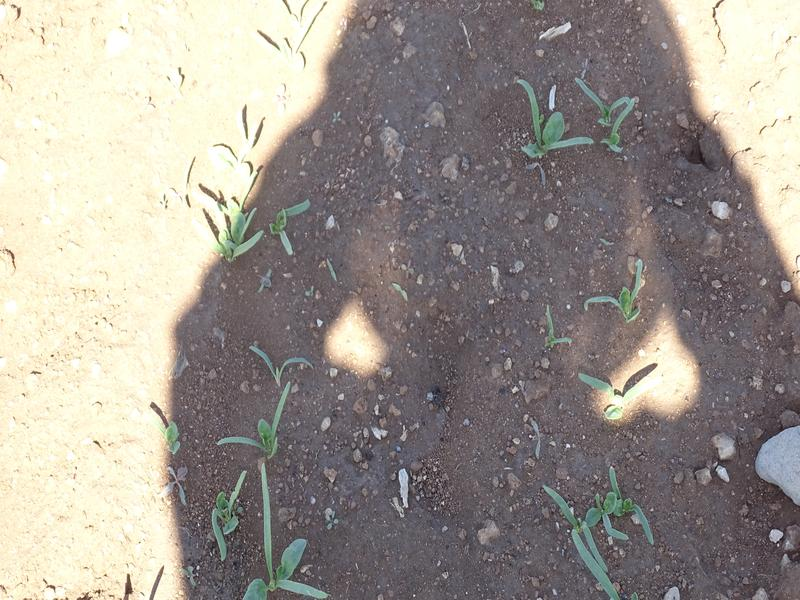Espinaca: (169, 387, 340, 600), (191, 111, 311, 257), (556, 266, 663, 414), (515, 73, 638, 169), (543, 470, 648, 581), (274, 7, 326, 94)
